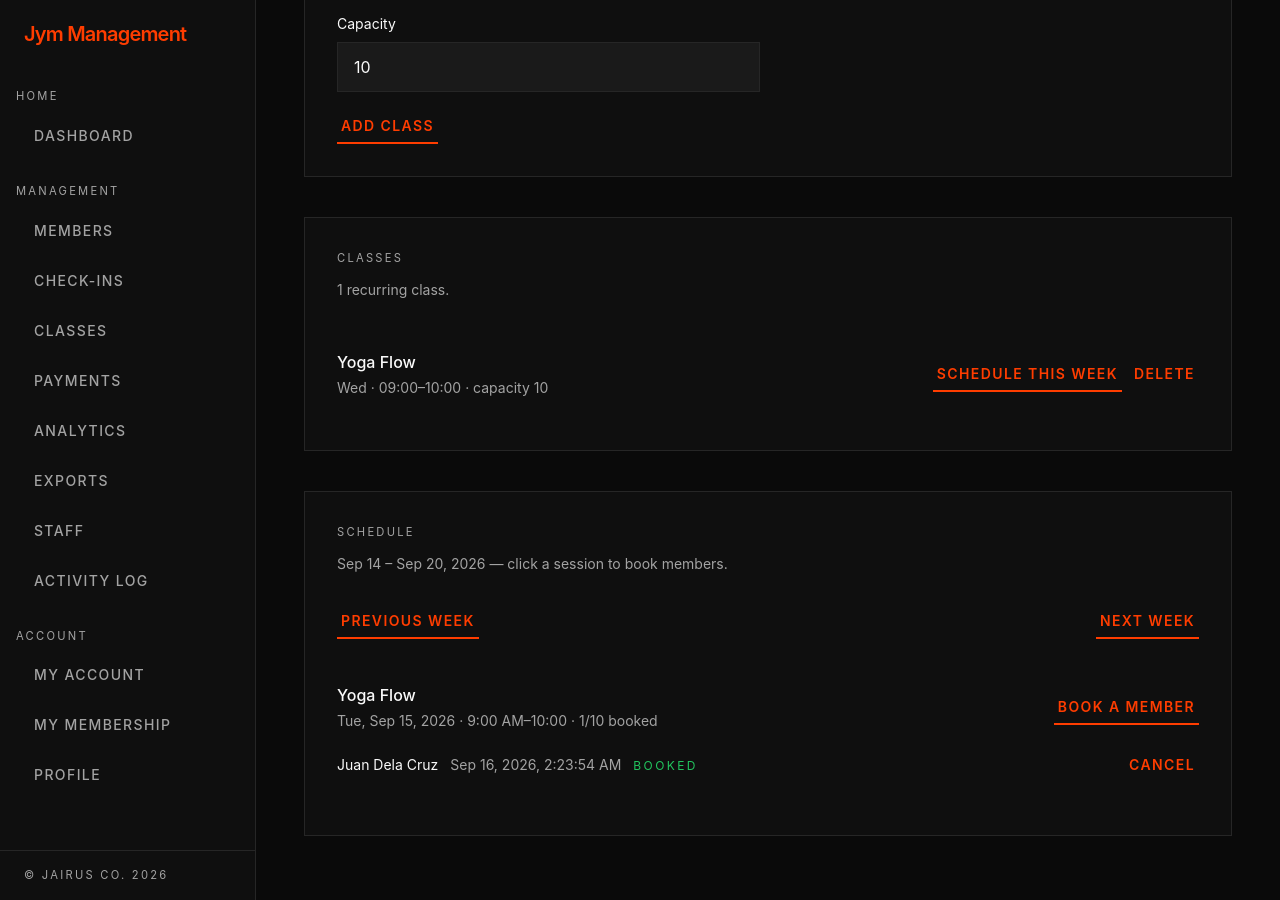
Test case: ClassSchedulePage › cancels a booking
The image size is (1280, 900).
(page scrolled)
Click the button "Cancel" at coordinates (1162, 765), box [1125,747,1199,783]
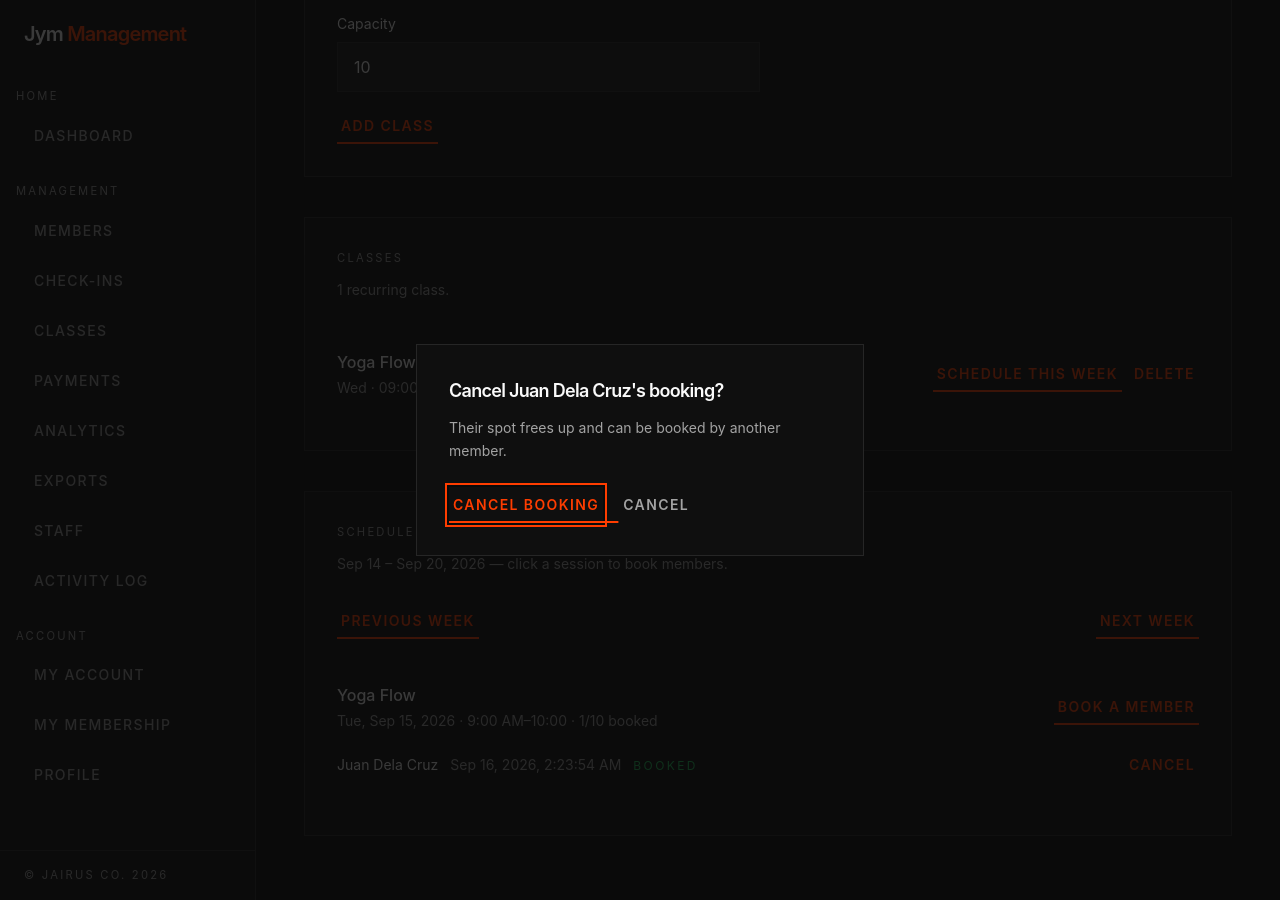
Check: the text "Cancel Juan Dela Cruz's booking?" is shown, box [449,380,724,401]
Click the button "Cancel booking" at coordinates (526, 505), box [449,487,603,523]
(page scrolled)
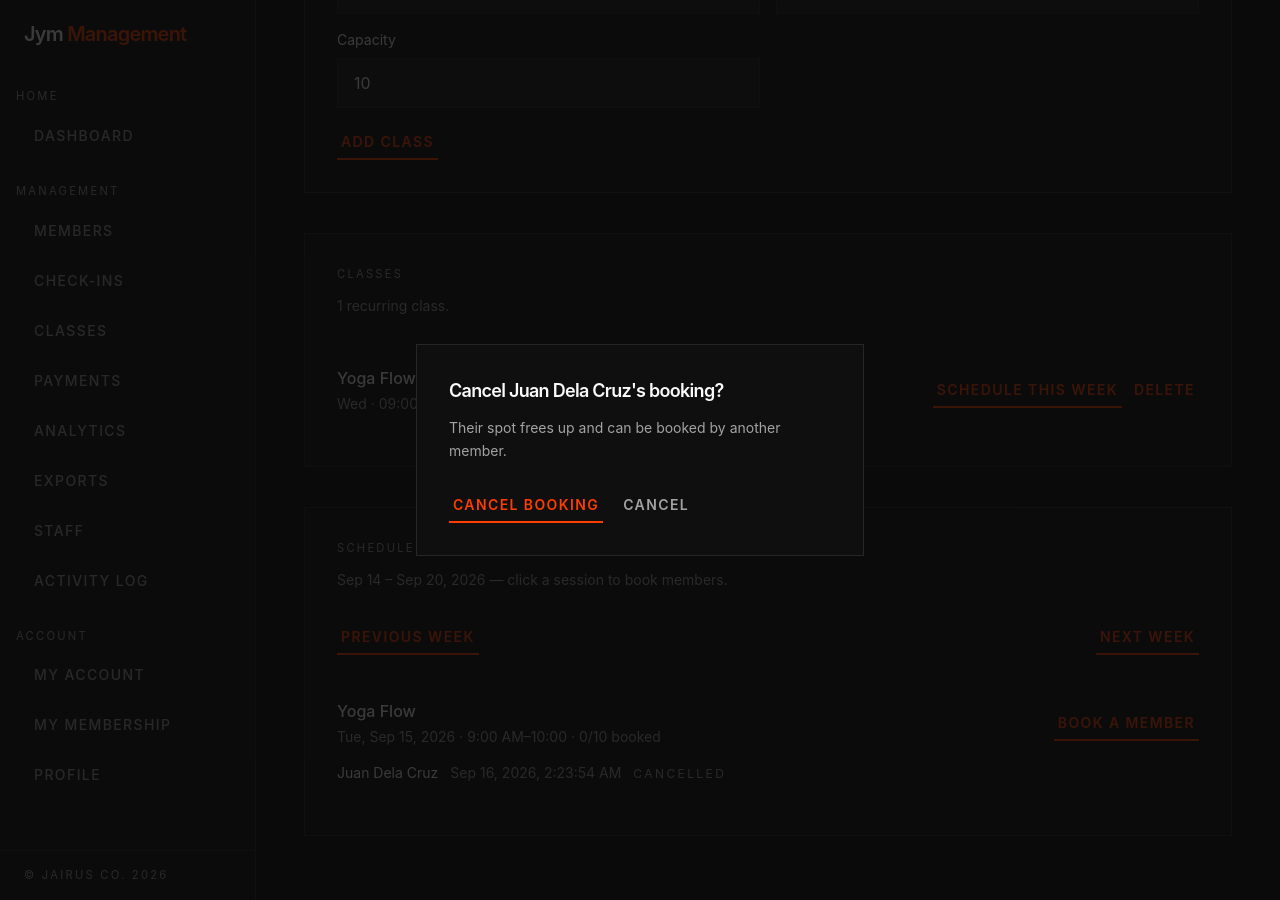
Check: the text "Tue, Sep 15, 2026 · 9:00 AM–10:00 · 0/10 booked" is shown, box [337,727,661,747]
